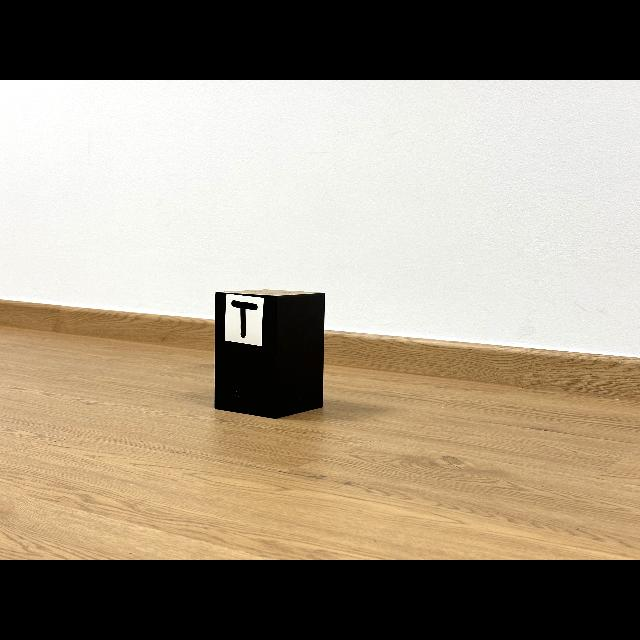T: (231, 300, 258, 338)
